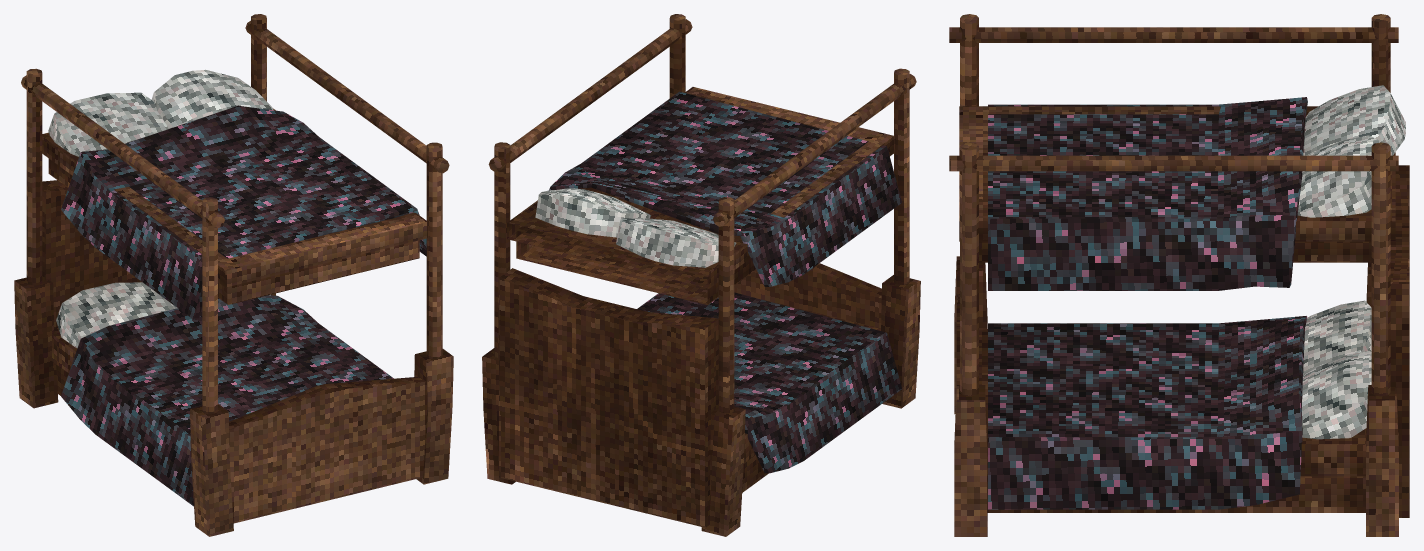
File: Bed_Double_2.gltf
The picture shows the model from 3 angles, left to right: view 1: azimuth 30°, elevation 25°; view 2: azimuth 150°, elevation 25°; view 3: azimuth 270°, elevation 25°; orthographic projection. The views are drawn at different scales.
Parts seen in each view (by area): view 1: Bed_Double_2; view 2: Bed_Double_2; view 3: Bed_Double_2.
Part boxes in pixels (x1=…): Bed_Double_2: x1=14, y1=14, x2=453, y2=536; Bed_Double_2: x1=482, y1=14, x2=920, y2=536; Bed_Double_2: x1=949, y1=14, x2=1409, y2=536.
Bounding box in the file's own units: 4.51 × 5.65 × 6.1.
Materials: 1 (1 with a texture image).
